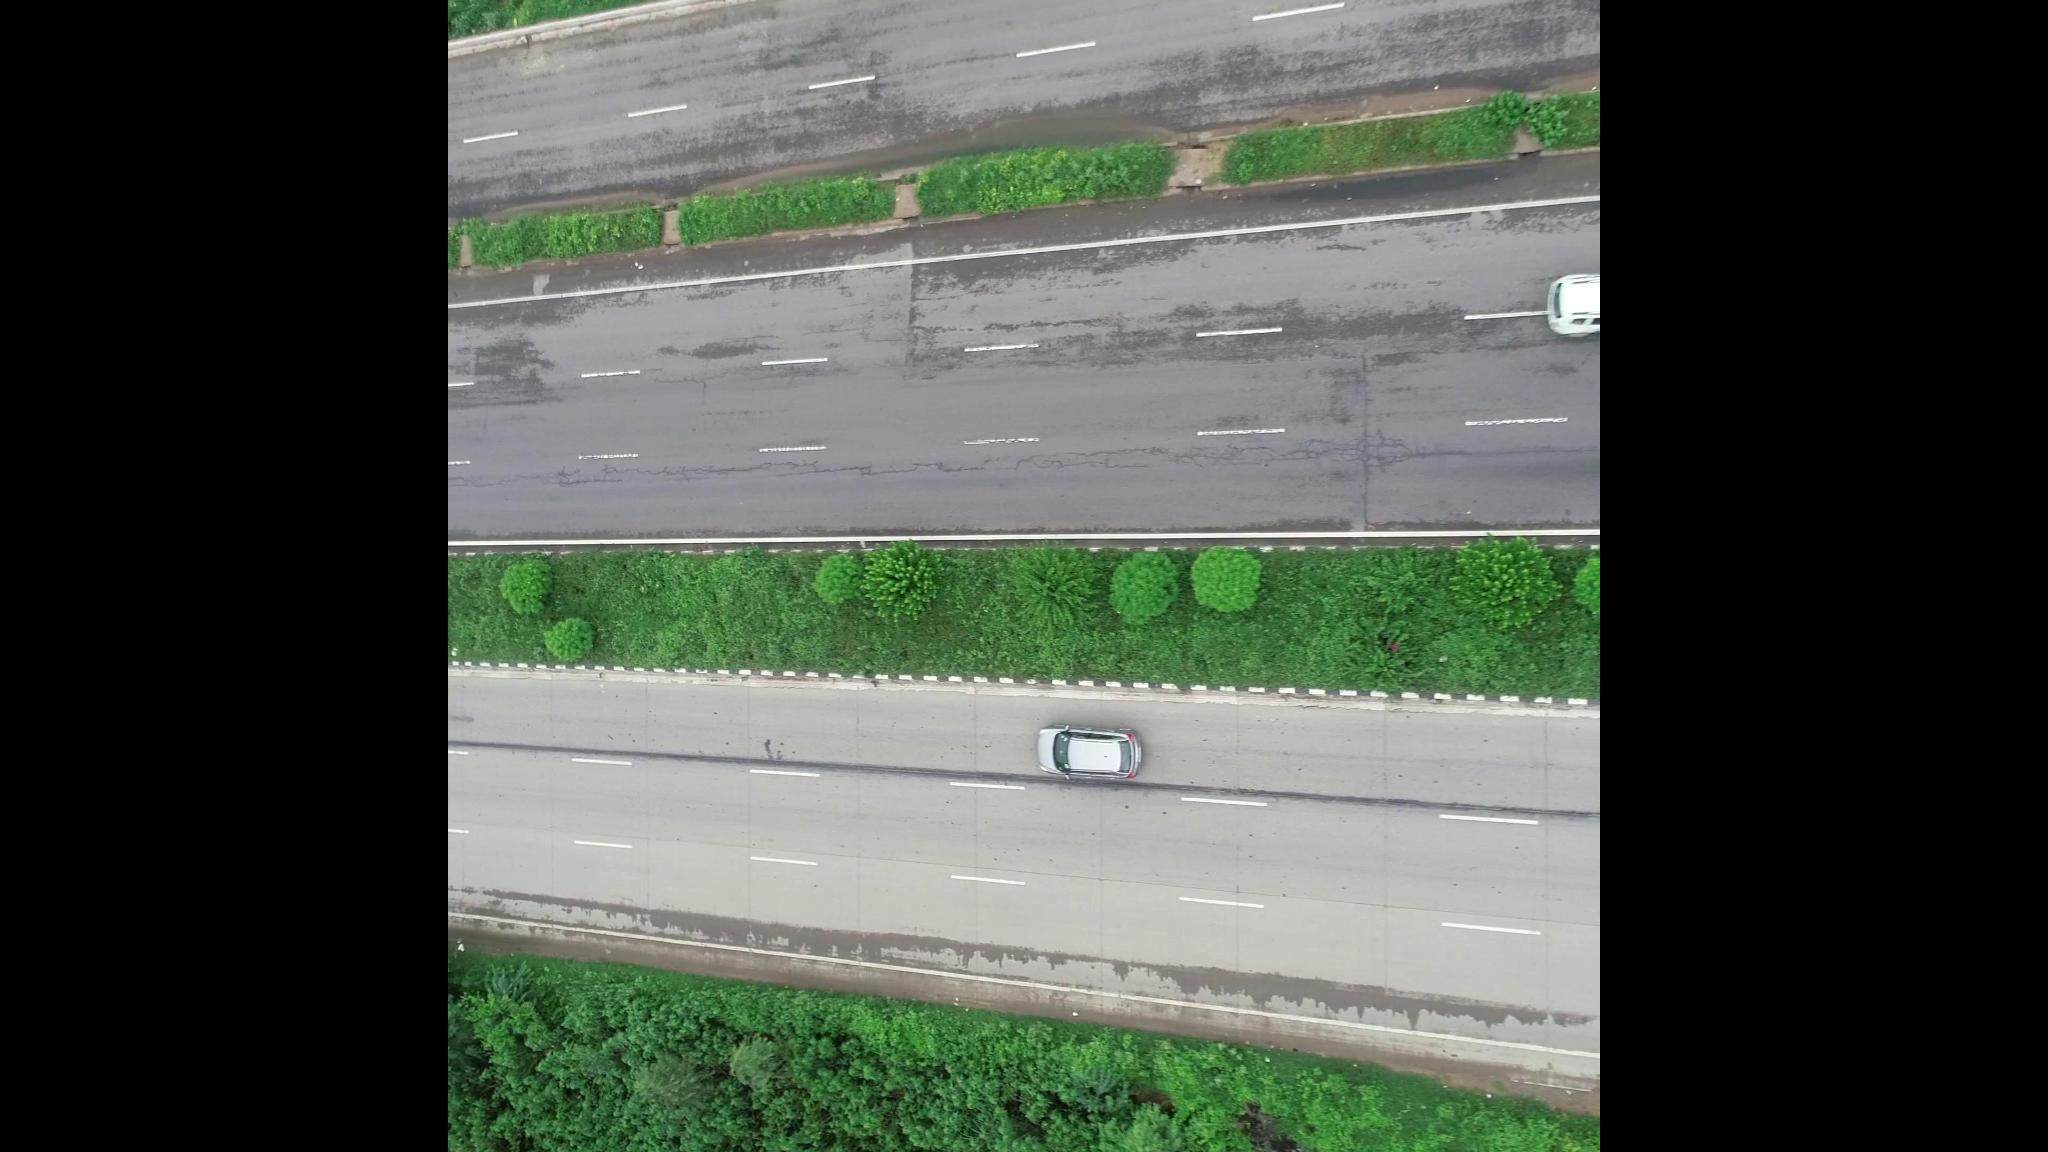Cracks: (518, 432, 1388, 495)
Ravelling: (980, 308, 1457, 370)
